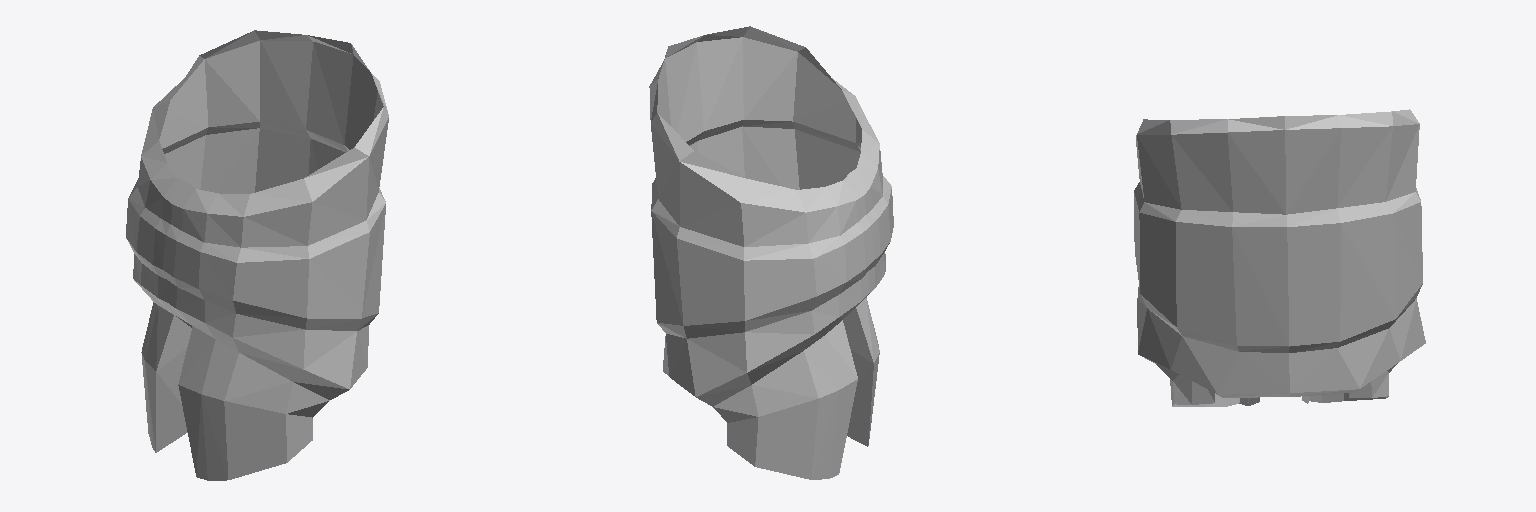
File: LFinger31.obj
3 renders of one model, left to right at view 1: azimuth 30°, elevation 25°; view 2: azimuth 150°, elevation 25°; view 3: azimuth 270°, elevation 25°, orthographic.
Parts seen in each view (by area): view 1: LFinger31_LFinger31; view 2: LFinger31_LFinger31; view 3: LFinger31_LFinger31.
Part boxes in pixels (x1,y1,x2,y2): LFinger31_LFinger31: (126, 30, 388, 480); LFinger31_LFinger31: (649, 26, 893, 479); LFinger31_LFinger31: (1134, 109, 1425, 406).
Size of the model in its own units: 0.0192 by 0.0343 by 0.0243.